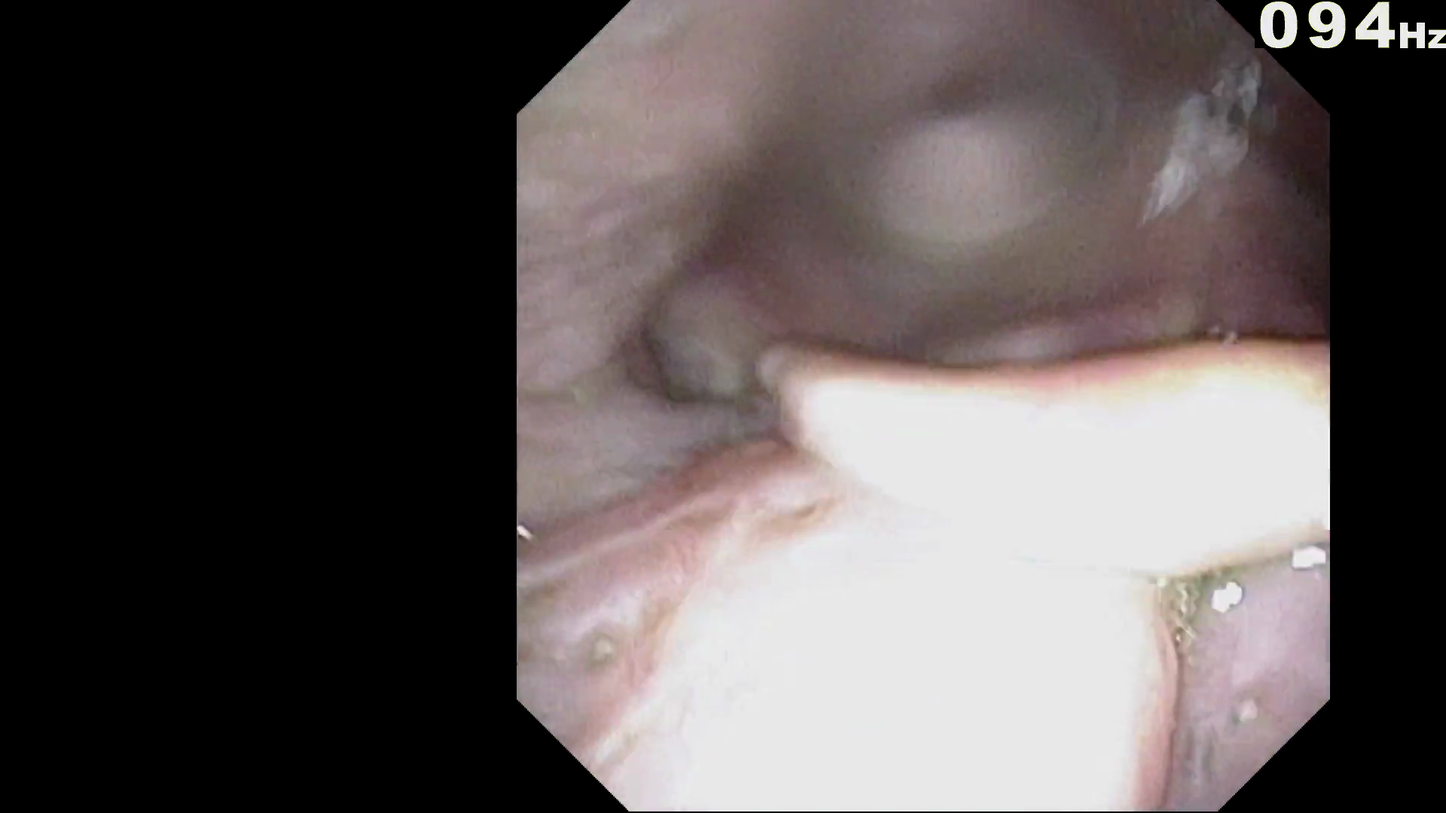epiglottis: (791, 427, 1305, 652)
trachea: (1068, 387, 1170, 471)
